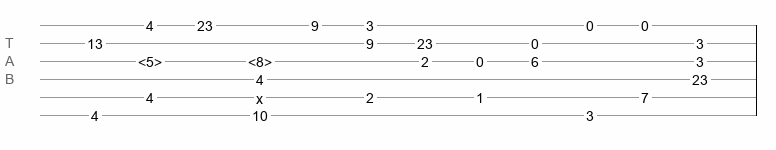0: (476, 54, 484, 64), (531, 36, 539, 46), (586, 18, 594, 28), (641, 18, 649, 28)
1: (476, 90, 484, 100)
10: (252, 108, 268, 118)
13: (87, 36, 103, 46)
2: (366, 90, 374, 100), (421, 54, 429, 64)
23: (197, 18, 213, 28), (417, 36, 433, 46), (692, 72, 708, 82)
3: (366, 18, 374, 28), (586, 108, 594, 118), (696, 54, 704, 64), (696, 36, 704, 46)
4: (91, 108, 99, 118), (146, 90, 154, 100), (146, 18, 154, 28), (256, 72, 264, 82)
6: (531, 54, 539, 64)
7: (641, 90, 649, 100)
9: (311, 18, 319, 28), (366, 36, 374, 46)
harmonic: (138, 54, 162, 64), (248, 54, 272, 64)
x: (256, 91, 263, 99)
